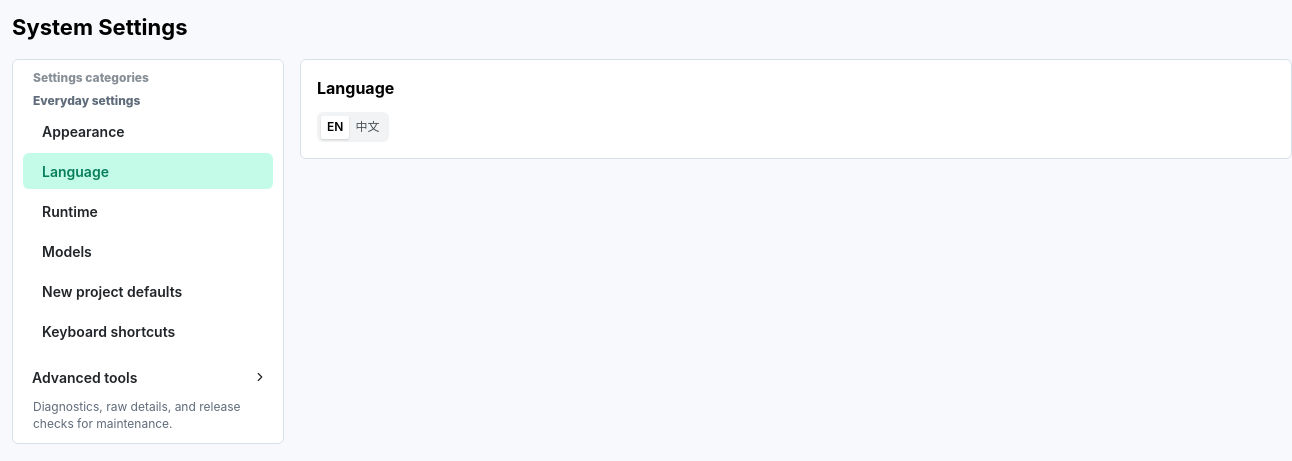
Scenario: SettingsPage › visually separates read-only status values from editable settings
The width and height of the screenshot is (1292, 461).
Click the button "Appearance": [148, 131] box [23, 113, 273, 149]
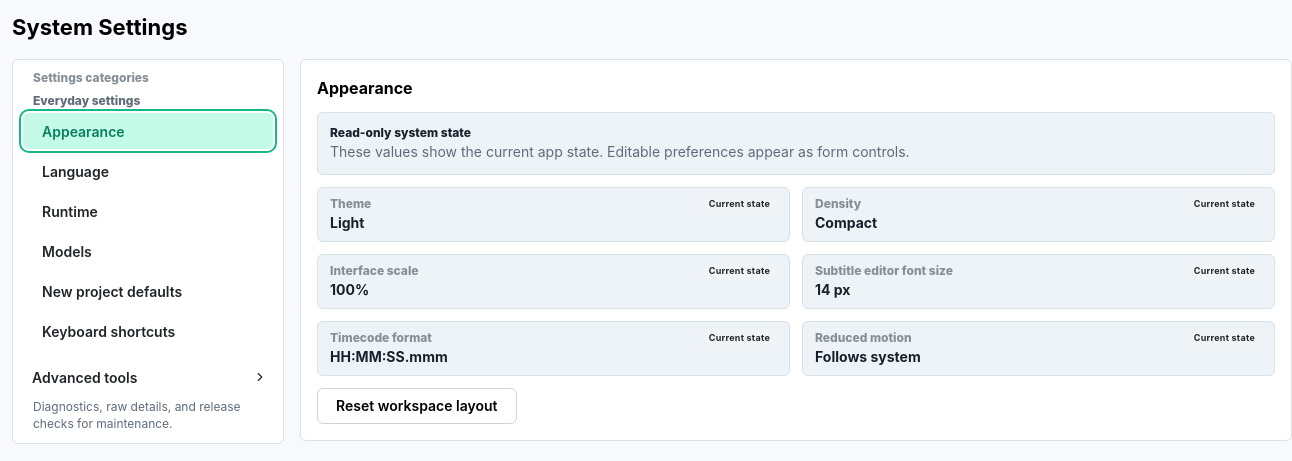
Check: the element "Theme" shows "Current state", box [709, 198, 770, 209]
Click the button "New project defaults": [148, 291] box [23, 273, 273, 309]
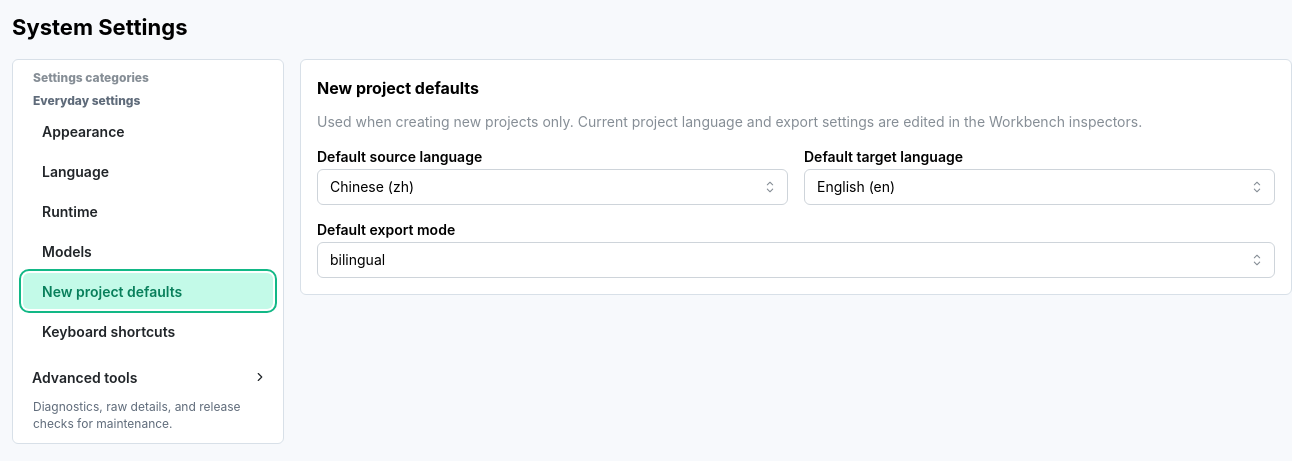
Check: the dropdown labelled "Default source language" is shown, box [317, 169, 788, 205]
Check: the dropdown labelled "Default target language" is shown, box [804, 169, 1275, 205]
Check: the text "Current state" is gone
